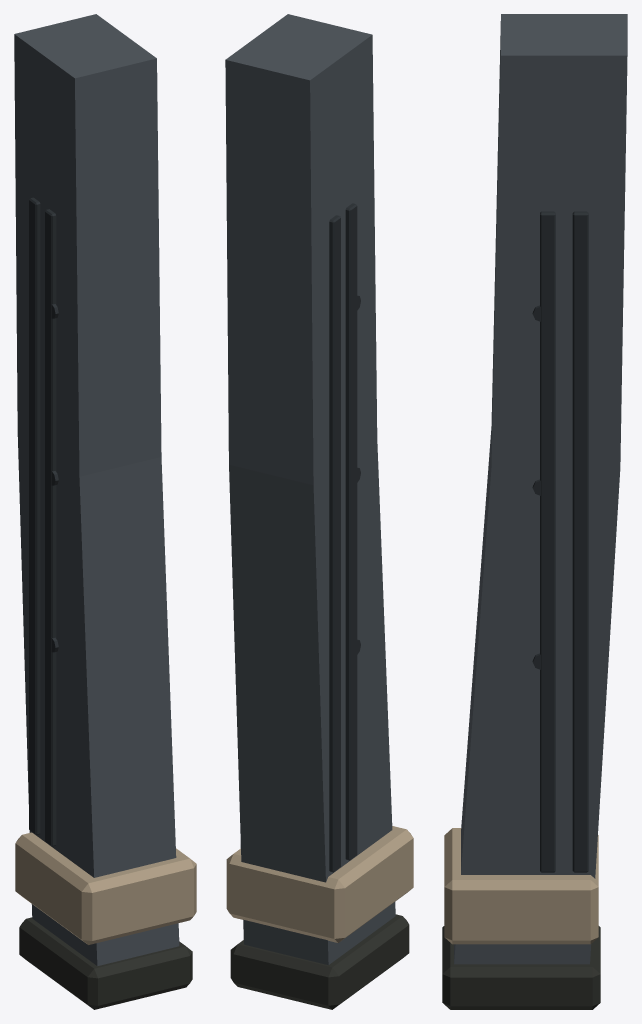
File: att_mag_lynx45_extended.glb
3 renders of one model, left to right at view 1: azimuth 30°, elevation 25°; view 2: azimuth 150°, elevation 25°; view 3: azimuth 270°, elevation 25°, orthographic. The views are drawn at different scales.
Visible parts, largest first — view 1: Geometry_att_mag_lynx45_extended; view 2: Geometry_att_mag_lynx45_extended; view 3: Geometry_att_mag_lynx45_extended.
Boxes of the visible parts, x1,y1,x2,y2 form: Geometry_att_mag_lynx45_extended: (14, 14, 196, 1009); Geometry_att_mag_lynx45_extended: (225, 14, 413, 1009); Geometry_att_mag_lynx45_extended: (442, 14, 627, 1009).
Bounding box in the file's own units: 0.035 × 0.2656 × 0.0468.
